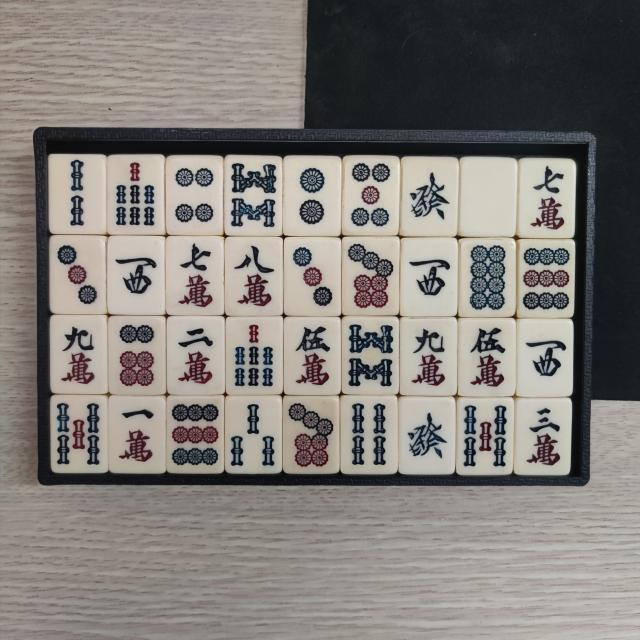hdg: (407, 162, 452, 231), (404, 403, 449, 468)
hdw: (466, 162, 510, 230)
hww: (112, 240, 162, 308), (405, 244, 455, 311), (521, 324, 569, 393)
sb2: (53, 156, 101, 231)
sb3: (228, 400, 278, 470)
sb4: (345, 399, 392, 471)
sb5: (54, 398, 104, 470), (460, 401, 510, 472)
sb7: (112, 158, 162, 230), (230, 321, 280, 392)
sb8: (228, 158, 280, 232), (346, 322, 394, 389)
sc1: (114, 401, 160, 470)
sc2: (172, 321, 218, 393)
sc3: (518, 403, 566, 471)
sc5: (288, 320, 334, 390), (464, 324, 510, 392)
sc7: (170, 240, 220, 310), (524, 162, 568, 234)
sc8: (228, 241, 278, 311)
sc9: (54, 320, 102, 390), (407, 323, 452, 390)
sd2: (288, 160, 334, 230)
sd3: (54, 238, 102, 311), (288, 241, 337, 311)
sd4: (172, 158, 218, 230)
sd5: (348, 160, 395, 232)
sd6: (113, 319, 160, 392)
sd7: (345, 240, 395, 312), (286, 400, 336, 470)
sd8: (464, 242, 510, 312)
sd9: (521, 242, 571, 316), (170, 400, 222, 470)
